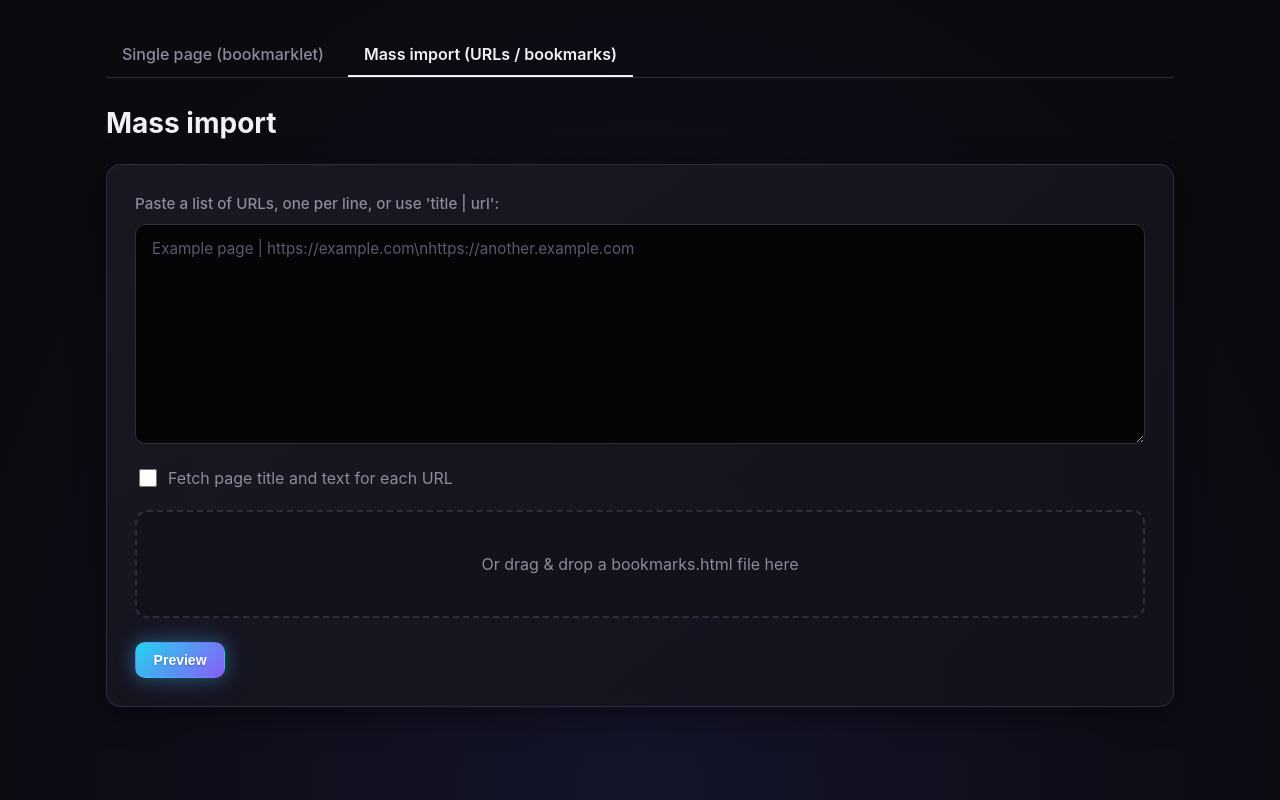
Test case: Import bookmarks page — type selector › offers exactly the UI types and none of the system types
The width and height of the screenshot is (1280, 800).
Replace the text in the text box labelled "Paste a list of URLs, one per line, or use 'title | url':" with "Example | https://example.com": (640,334) [135,224,1145,444]
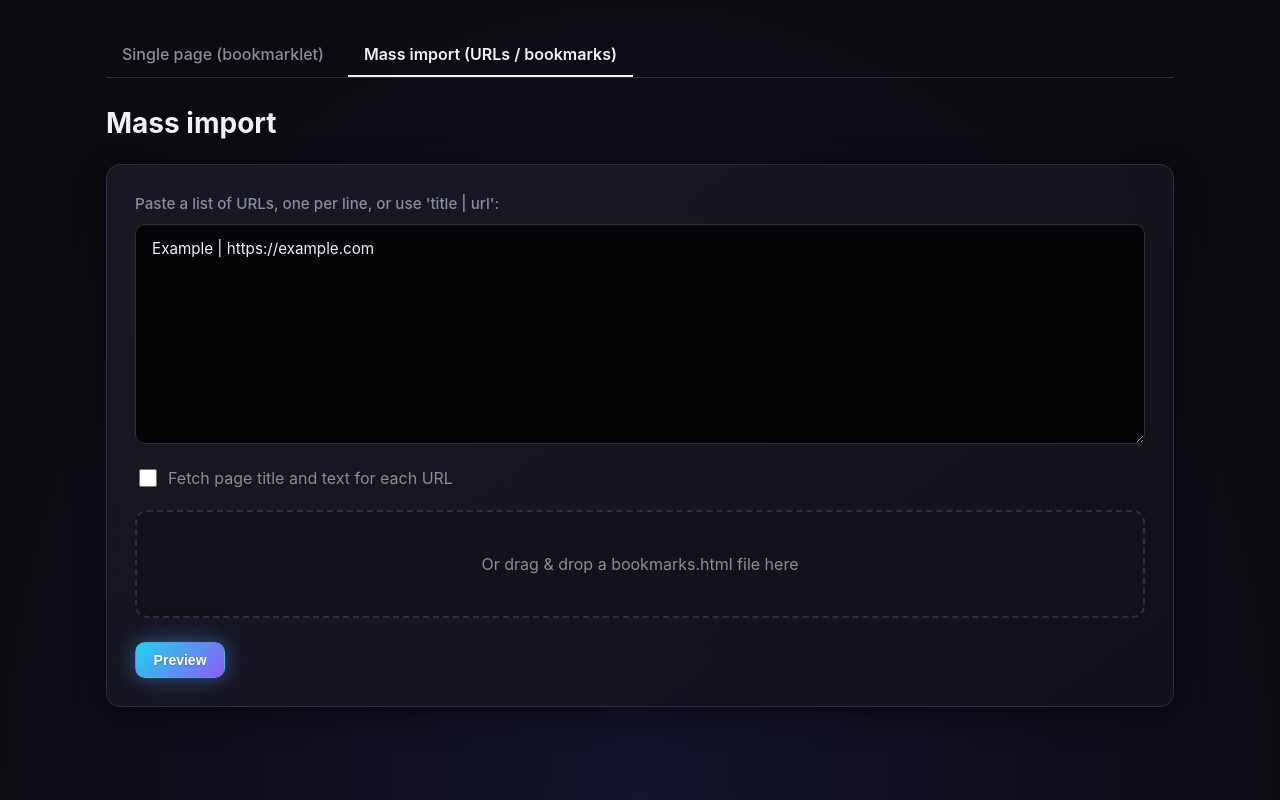
Click the button with test id "preview-import": (180,660) [135,642,225,678]
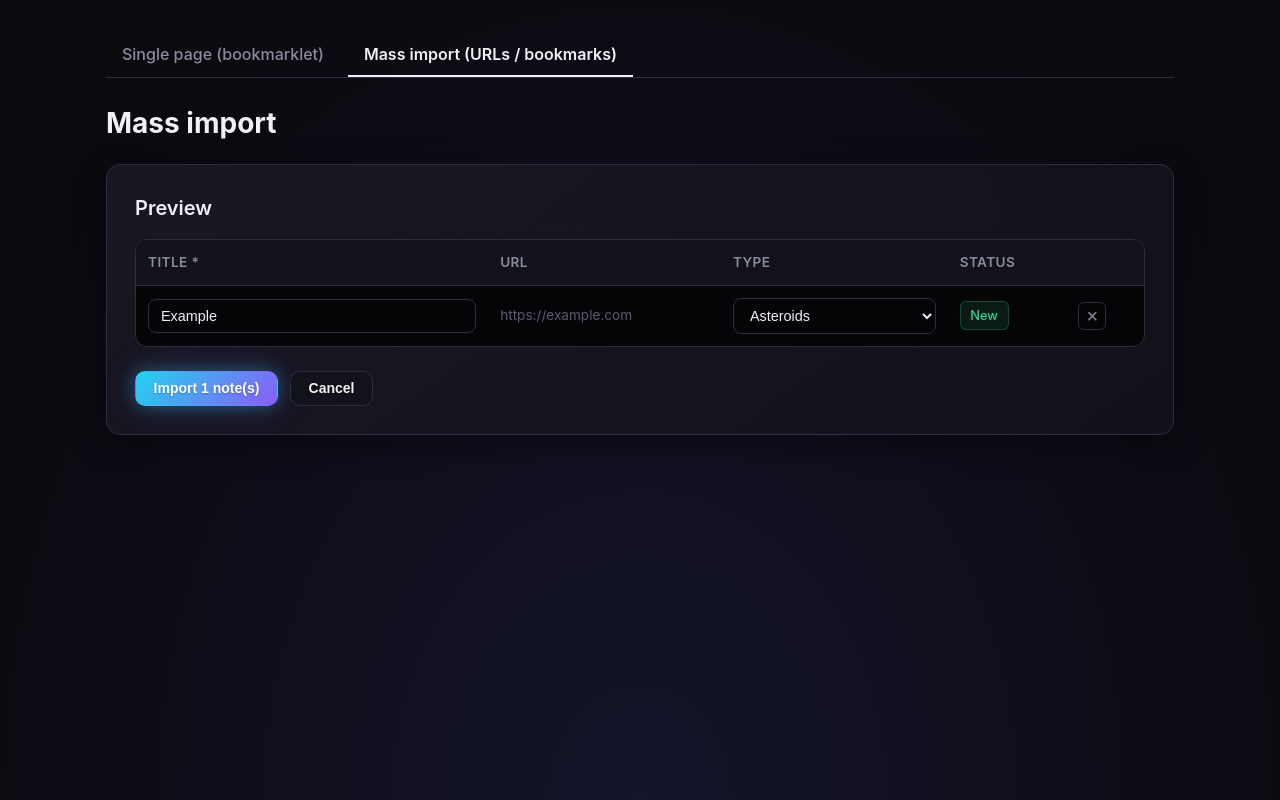
Check: the dropdown with class "table-select" is shown, box [733,298,936,334]
